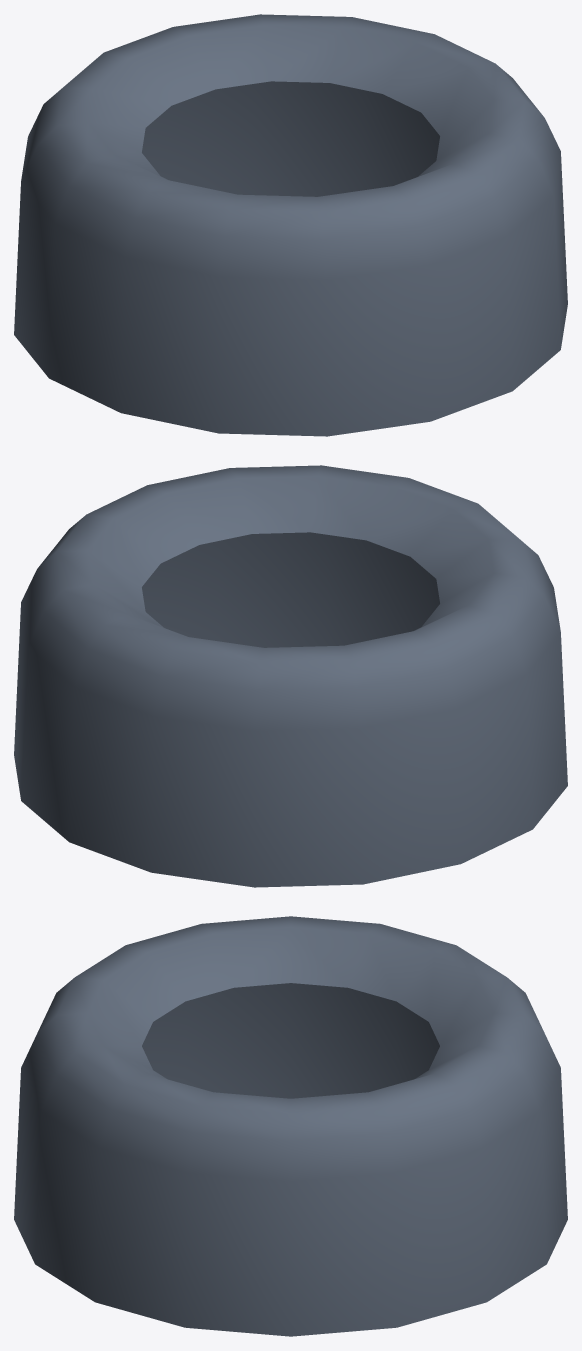
File: fountain_water.fbx
The picture shows the model from 3 angles, top to bottom: view 1: azimuth 30°, elevation 25°; view 2: azimuth 150°, elevation 25°; view 3: azimuth 270°, elevation 25°; orthographic projection.
Parts seen in each view (by area): view 1: fountain_water; view 2: fountain_water; view 3: fountain_water.
Boxes of the visible parts, bbox=[...] form: fountain_water: bbox=[14, 14, 567, 436]; fountain_water: bbox=[14, 465, 567, 887]; fountain_water: bbox=[14, 916, 567, 1336].
Size of the model in its own units: 5.1 by 2.1 by 5.1.
